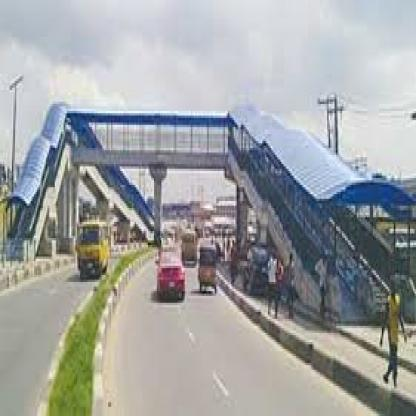car: (58, 198, 116, 272), (152, 244, 193, 308), (190, 229, 221, 298)
